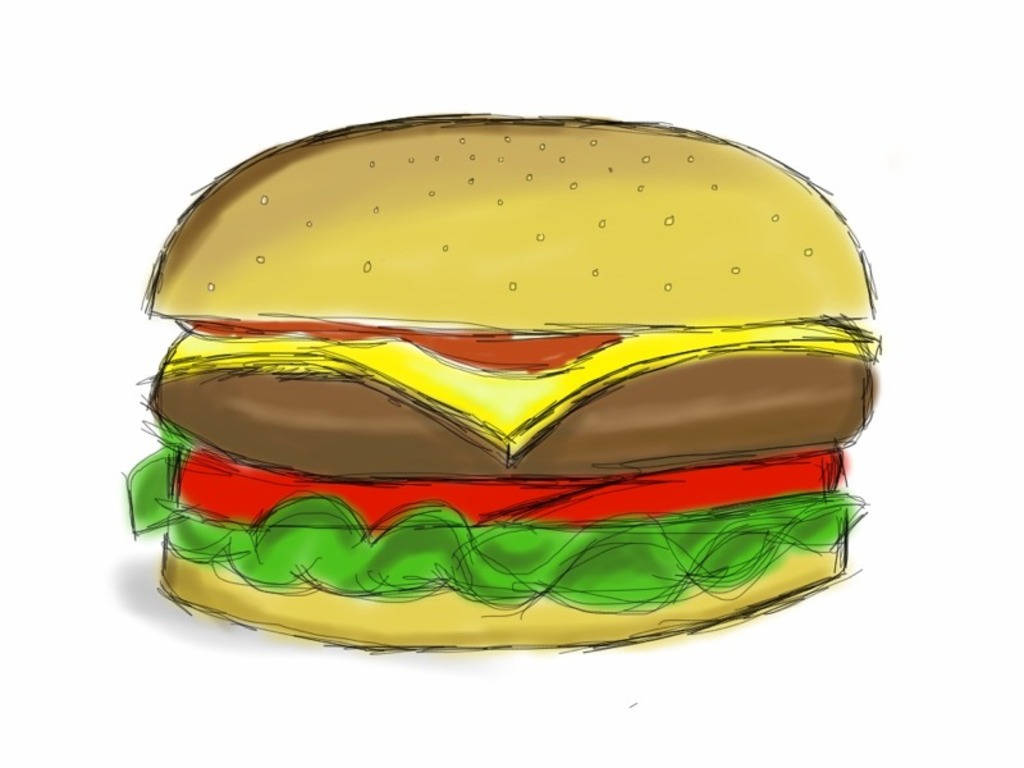Hamburger: (122, 108, 875, 654)
